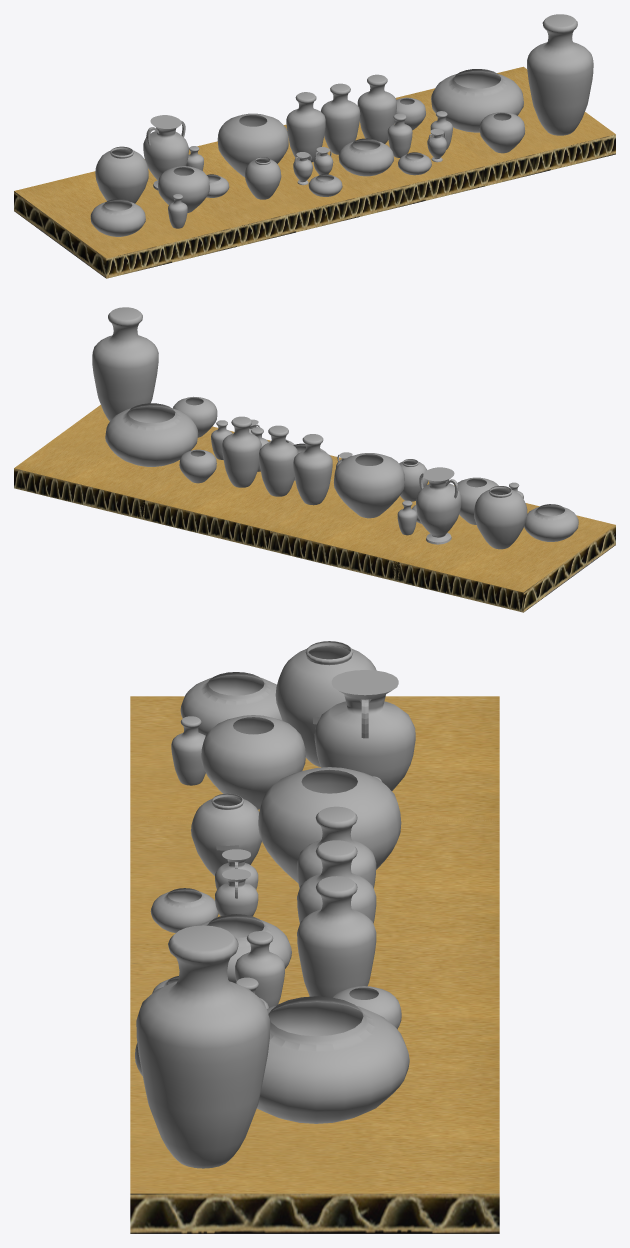
File: Ancient Decorated Platform 4.fbx
3 renders of one model, top to bottom at view 1: azimuth 30°, elevation 25°; view 2: azimuth 150°, elevation 25°; view 3: azimuth 270°, elevation 25°, orthographic. The views are drawn at different scales.
Parts seen in each view (by area): view 1: Platform_8_1, Platform_8_2, Platform_8_4, Platform_8_3, Ancient_Storage_Vase_8_24, Ancient_Storage_Vase_8_22, Ancient_Storage_Vase_8_09, Ancient_Storage_Vase_8_02, Ancient_Storage_Vase_8_05, Ancient_Storage_Vase_8_13, Ancient_Storage_Vase_8_17, Ancient_Storage_Vase_8_15 (+15 smaller); view 2: Platform_8_1, Platform_8_4, Platform_8_2, Platform_8_3, Ancient_Storage_Vase_8_24, Ancient_Storage_Vase_8_22, Ancient_Storage_Vase_8_09, Ancient_Storage_Vase_8_05, Ancient_Storage_Vase_8_02, Ancient_Storage_Vase_8_13, Ancient_Storage_Vase_8_17, Ancient_Storage_Vase_8_15 (+7 smaller); view 3: Platform_8_4, Platform_8_2, Ancient_Storage_Vase_8_24, Platform_8_1, Platform_8_3, Ancient_Storage_Vase_8_22, Ancient_Storage_Vase_8_09, Ancient_Storage_Vase_8_05, Ancient_Storage_Vase_8_17, Ancient_Storage_Vase_8_04, Ancient_Storage_Vase_8_02, Ancient_Storage_Vase_8_01 (+10 smaller).
Part boxes in pixels (left/top/right/bottom): Platform_8_1: left=14, top=169, right=237, bottom=278; Platform_8_2: left=188, top=141, right=360, bottom=247; Platform_8_4: left=396, top=66, right=615, bottom=186; Platform_8_3: left=284, top=97, right=490, bottom=216; Ancient_Storage_Vase_8_24: left=527, top=14, right=593, bottom=135; Ancient_Storage_Vase_8_22: left=431, top=69, right=523, bottom=132; Ancient_Storage_Vase_8_09: left=217, top=113, right=288, bottom=177; Ancient_Storage_Vase_8_02: left=95, top=146, right=148, bottom=203; Ancient_Storage_Vase_8_05: left=143, top=115, right=188, bottom=190; Ancient_Storage_Vase_8_13: left=286, top=92, right=325, bottom=162; Ancient_Storage_Vase_8_17: left=357, top=74, right=396, bottom=143; Ancient_Storage_Vase_8_15: left=320, top=83, right=360, bottom=154; Platform_8_1: left=392, top=503, right=615, bottom=612; Platform_8_4: left=14, top=405, right=234, bottom=520; Platform_8_2: left=270, top=480, right=454, bottom=581; Platform_8_3: left=139, top=440, right=341, bottom=550; Ancient_Storage_Vase_8_24: left=92, top=307, right=158, bottom=421; Ancient_Storage_Vase_8_22: left=105, top=403, right=198, bottom=466; Ancient_Storage_Vase_8_09: left=334, top=453, right=404, bottom=518; Ancient_Storage_Vase_8_05: left=416, top=467, right=461, bottom=544; Ancient_Storage_Vase_8_02: left=474, top=486, right=527, bottom=549; Ancient_Storage_Vase_8_13: left=293, top=434, right=332, bottom=505; Ancient_Storage_Vase_8_17: left=222, top=416, right=261, bottom=487; Ancient_Storage_Vase_8_15: left=259, top=425, right=298, bottom=496; Platform_8_4: left=130, top=1071, right=499, bottom=1233; Platform_8_2: left=130, top=817, right=499, bottom=943; Ancient_Storage_Vase_8_24: left=136, top=925, right=270, bottom=1168; Platform_8_1: left=130, top=696, right=499, bottom=823; Platform_8_3: left=130, top=943, right=499, bottom=1071; Ancient_Storage_Vase_8_22: left=257, top=996, right=409, bottom=1123; Ancient_Storage_Vase_8_09: left=258, top=767, right=401, bottom=882; Ancient_Storage_Vase_8_05: left=314, top=670, right=415, bottom=790; Ancient_Storage_Vase_8_17: left=297, top=876, right=376, bottom=997; Ancient_Storage_Vase_8_04: left=201, top=715, right=305, bottom=809; Ancient_Storage_Vase_8_02: left=275, top=641, right=376, bottom=766; Ancient_Storage_Vase_8_01: left=180, top=672, right=282, bottom=735.
Bounding box in the file's own units: 42.22 × 10.26 × 13.26.
2 materials, 1 textured.
